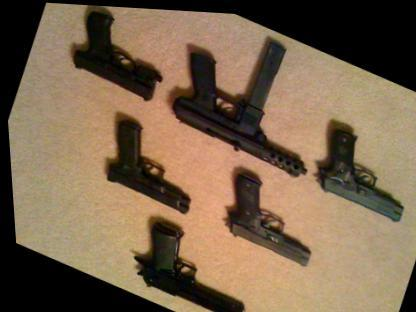pistol: (118, 213, 264, 311), (92, 115, 209, 216), (62, 4, 176, 106), (212, 168, 326, 268), (307, 121, 415, 222)
